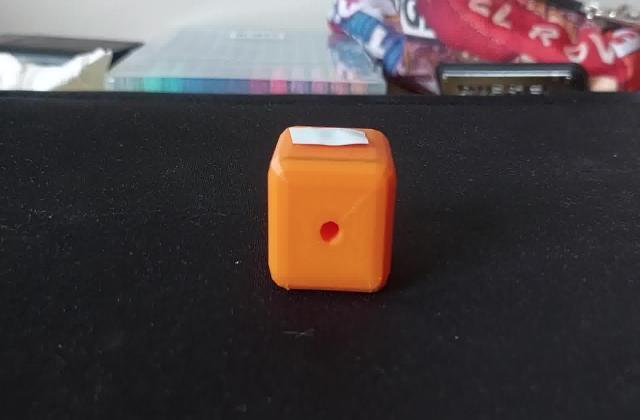cube: (262, 125, 396, 296)
white: (287, 127, 373, 152)
